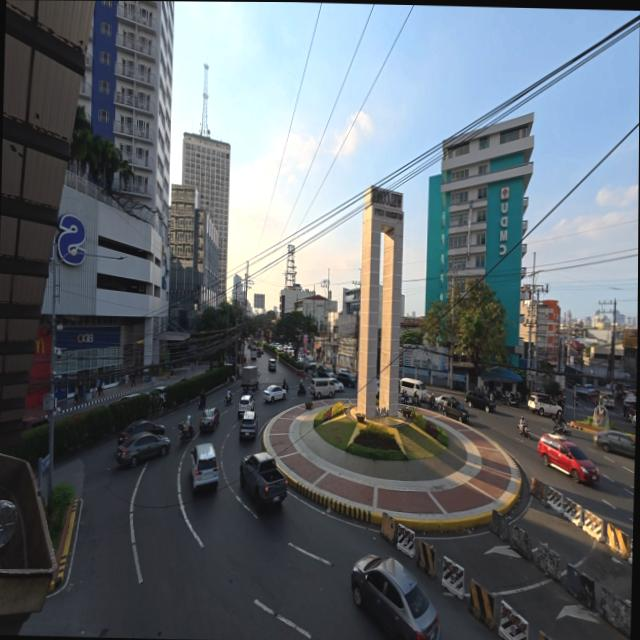bus: (250, 345, 257, 360)
car: (351, 555, 439, 639), (538, 434, 598, 482), (116, 431, 169, 466), (190, 443, 218, 490), (117, 420, 164, 445), (593, 431, 635, 458), (527, 393, 561, 416), (464, 390, 494, 412), (442, 398, 468, 421), (238, 411, 257, 439), (199, 408, 219, 431), (237, 394, 253, 419), (262, 385, 285, 402), (22, 416, 48, 430), (336, 370, 356, 387), (148, 386, 165, 405), (435, 395, 453, 408), (575, 384, 594, 396), (118, 392, 139, 402), (330, 377, 342, 393), (316, 365, 328, 377), (305, 356, 315, 368), (630, 412, 637, 427), (375, 377, 380, 397), (267, 359, 275, 371), (325, 367, 334, 377), (256, 346, 262, 356)
motorcycle: (178, 423, 194, 443), (553, 423, 570, 436), (518, 423, 530, 438), (506, 393, 517, 407), (428, 394, 437, 410), (411, 392, 421, 406), (297, 384, 306, 396), (197, 397, 205, 409), (400, 394, 409, 404), (224, 395, 231, 405)
trucks: (239, 453, 286, 506), (240, 365, 257, 391)
vans: (398, 378, 426, 398), (309, 378, 334, 399), (599, 392, 613, 409)
